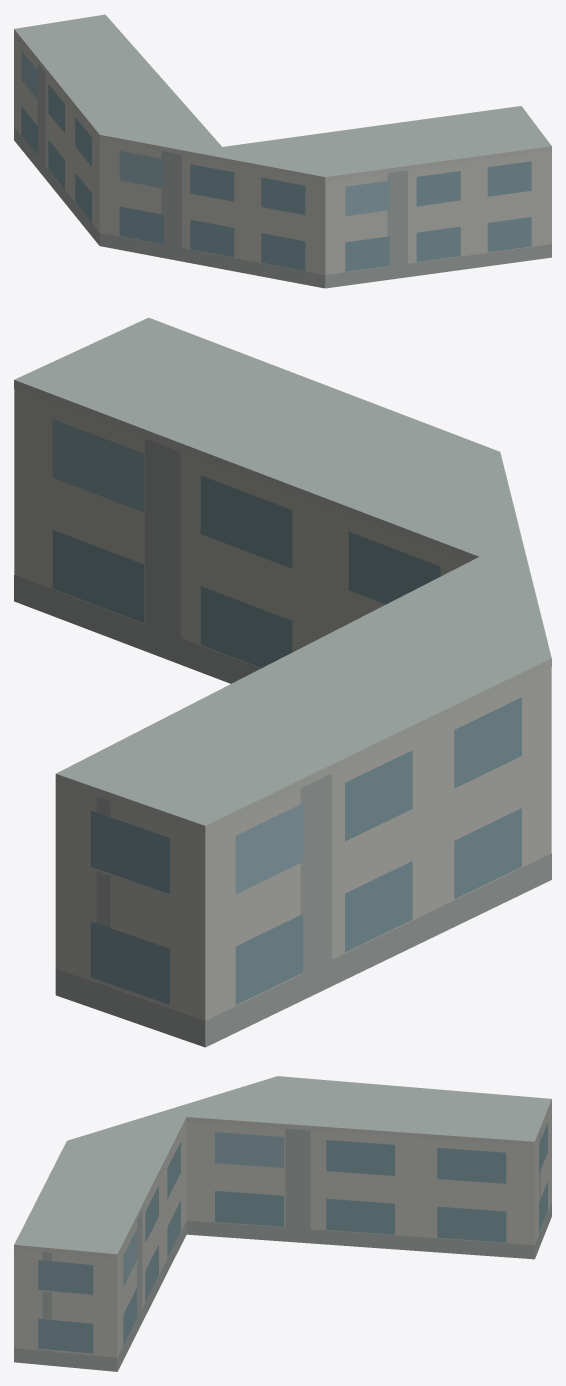
File: survey-upis-32702758.glb
The picture shows the model from 3 angles, top to bottom: view 1: azimuth 30°, elevation 25°; view 2: azimuth 150°, elevation 25°; view 3: azimuth 270°, elevation 25°; orthographic projection. The views are drawn at different scales.
Parts seen in each view (by area): view 1: survey-upis-32702758.tmp; view 2: survey-upis-32702758.tmp; view 3: survey-upis-32702758.tmp.
Boxes of the visible parts, x1=… form: survey-upis-32702758.tmp: x1=14, y1=14, x2=551, y2=288; survey-upis-32702758.tmp: x1=14, y1=317, x2=551, y2=1047; survey-upis-32702758.tmp: x1=14, y1=1076, x2=551, y2=1371.
Size of the model in its own units: 19.85 by 6.1 by 25.3.
